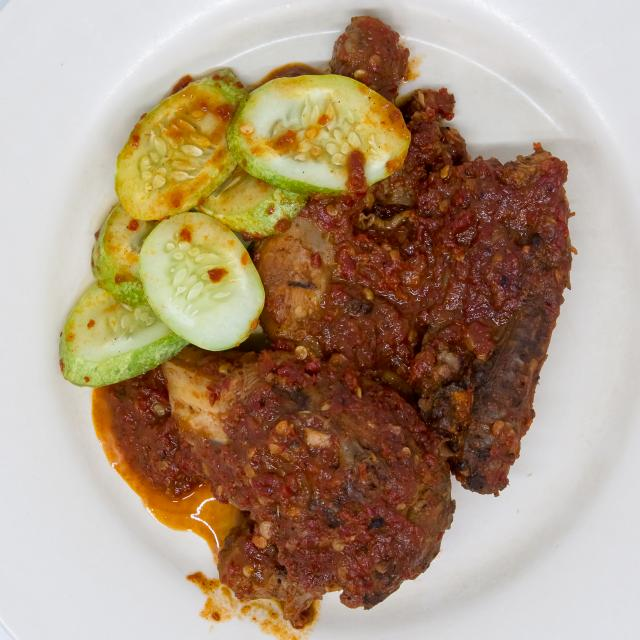Ayam-Bumbu-Rujak: (51, 6, 584, 615)
